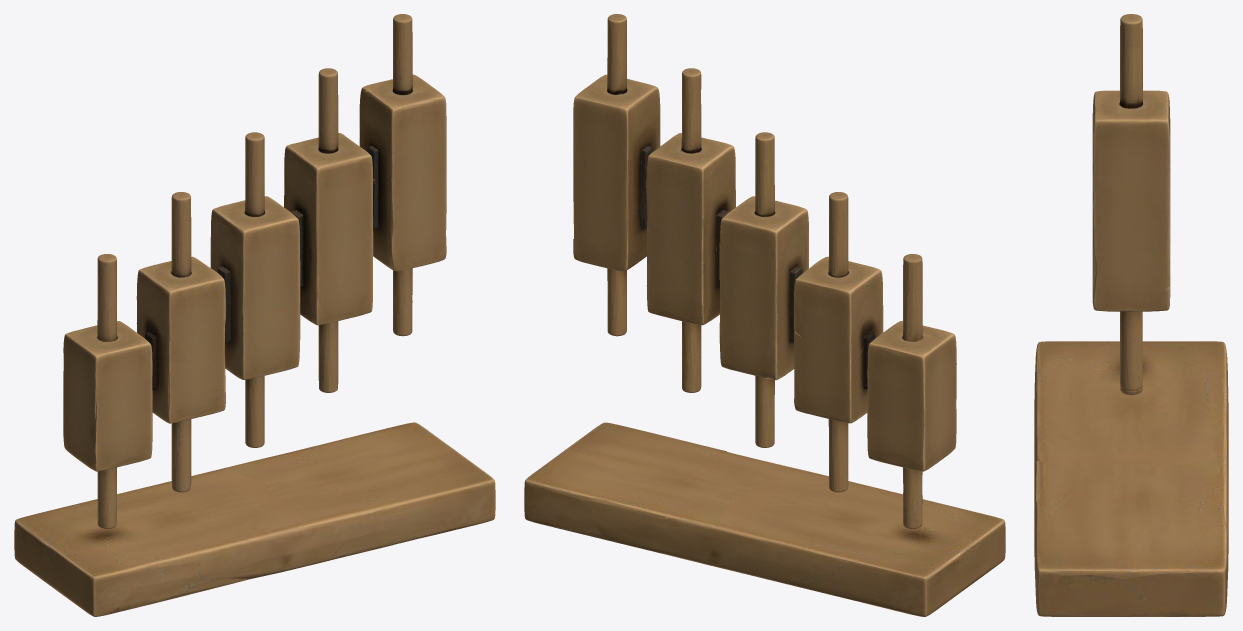
Rendered from chandelles.glb.
3 views of the same model, side by side, from view 1: azimuth 30°, elevation 25°; view 2: azimuth 150°, elevation 25°; view 3: azimuth 270°, elevation 25° (orthographic). The views are drawn at different scales.
Visible parts, largest first — view 1: Mesh_0; view 2: Mesh_0; view 3: Mesh_0.
Boxes of the visible parts, x1,y1,x2,y2 form: Mesh_0: (14,14,495,616); Mesh_0: (524,14,1005,616); Mesh_0: (1034,14,1228,616).
Size of the model in its own units: 1.13 by 1.3 by 0.4015.
1 material, 1 textured.
